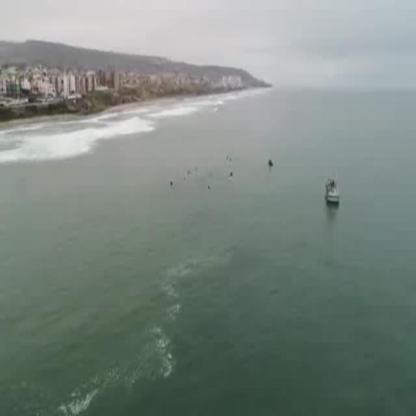Boat: (323, 172, 347, 204)
